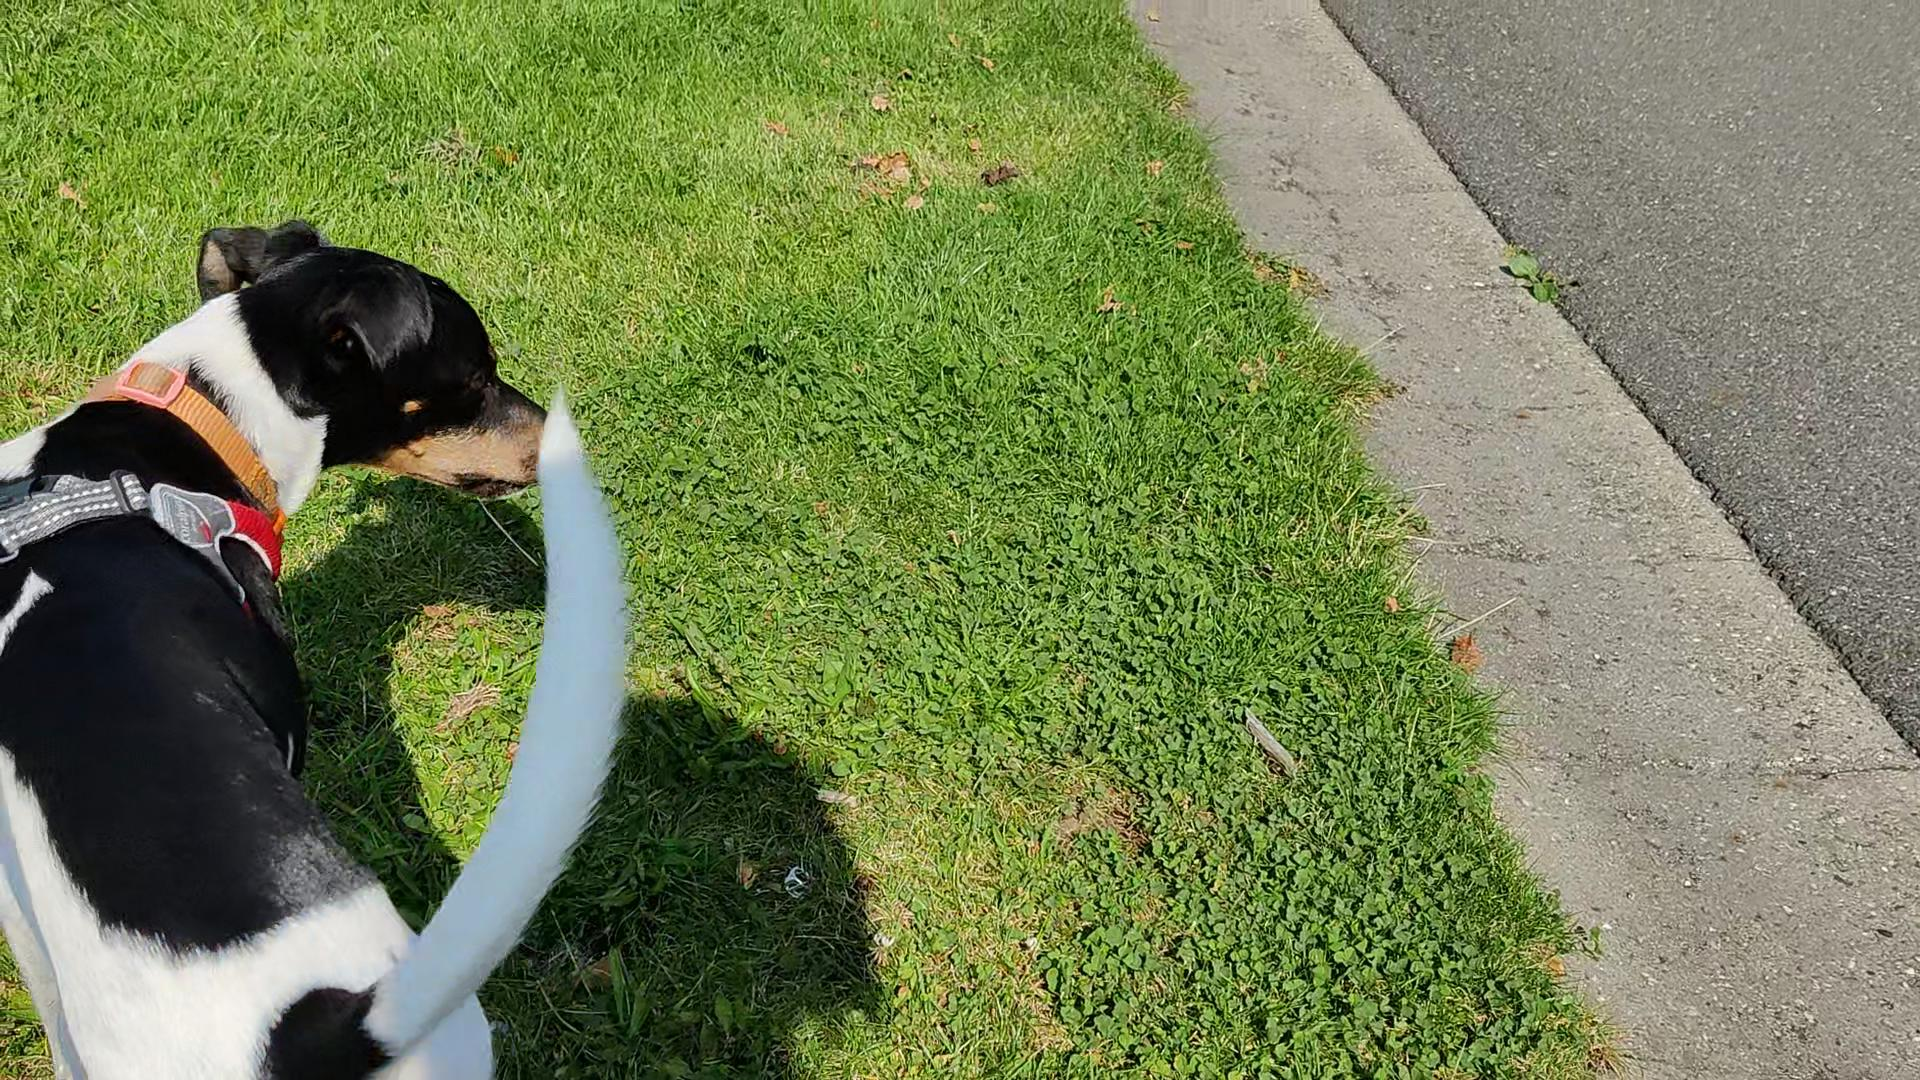Dog: (0, 214, 666, 1079)
